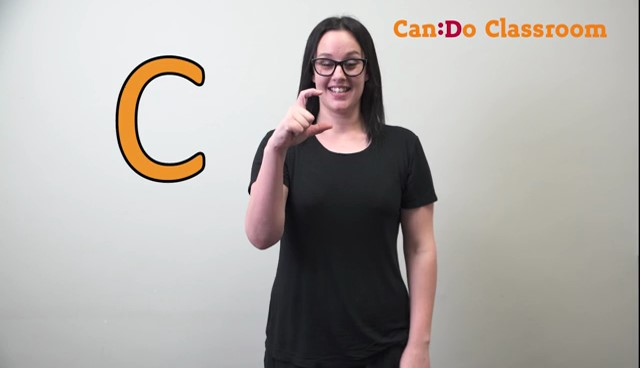C: (268, 82, 346, 149)
